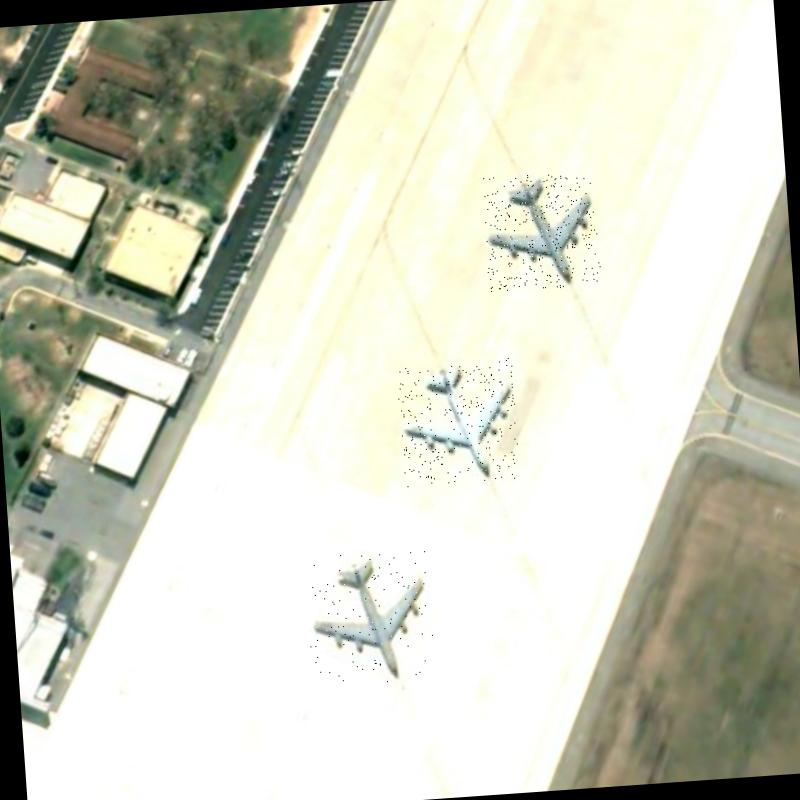A11: (396, 356, 520, 487)
A14: (303, 548, 435, 688), (480, 170, 602, 292)
